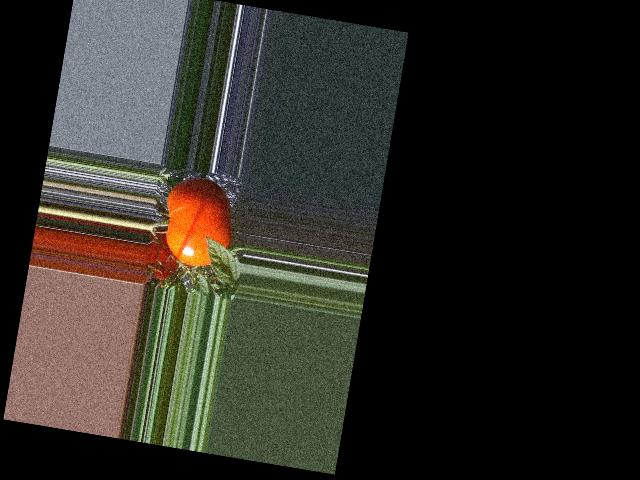tomato: (157, 173, 240, 271)
